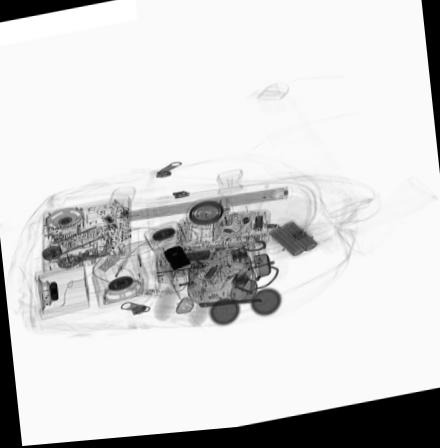Knife: (200, 303, 266, 312)
